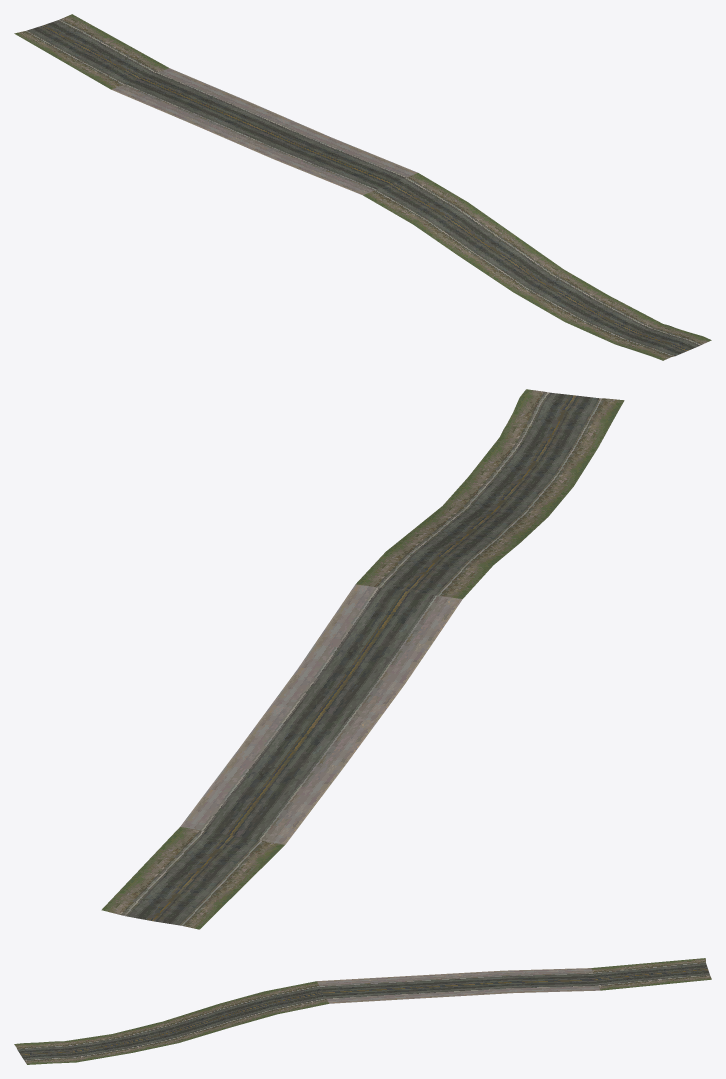
Rendered from lodcunte_roads16.obj.
3 renders of one model, top to bottom at view 1: azimuth 30°, elevation 25°; view 2: azimuth 150°, elevation 25°; view 3: azimuth 270°, elevation 25°, orthographic. The views are drawn at different scales.
Visible parts, largest first — view 1: LODcunte_roads16; view 2: LODcunte_roads16; view 3: LODcunte_roads16.
Boxes of the visible parts, box(x1,y1,x2,y2) form: LODcunte_roads16: box(14, 14, 711, 360); LODcunte_roads16: box(101, 389, 624, 929); LODcunte_roads16: box(14, 958, 711, 1064).
Bounding box in the file's own units: 79.63 × 13.93 × 273.
Materials: 2 (2 with a texture image).
